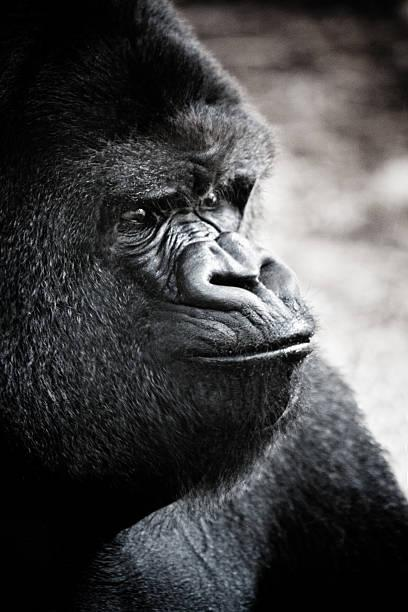gorille_Autres: (25, 4, 408, 607)
